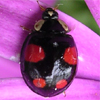Two_spots_mutant: (18, 7, 77, 96)
